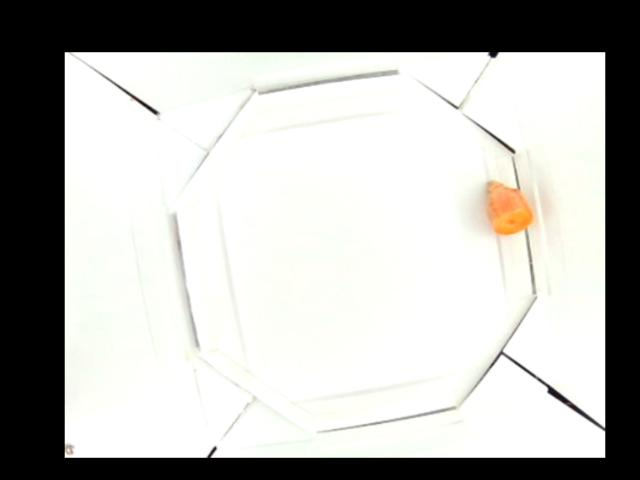Carrot: (485, 178, 533, 234)
